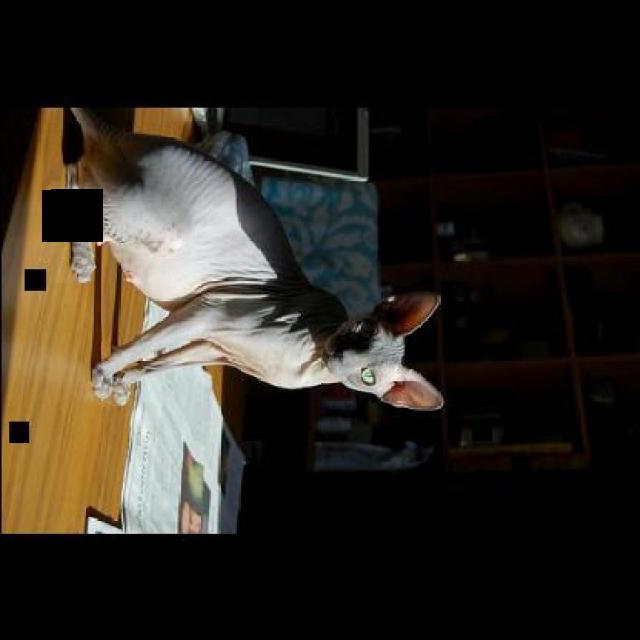unauthorized: (62, 106, 444, 412)
